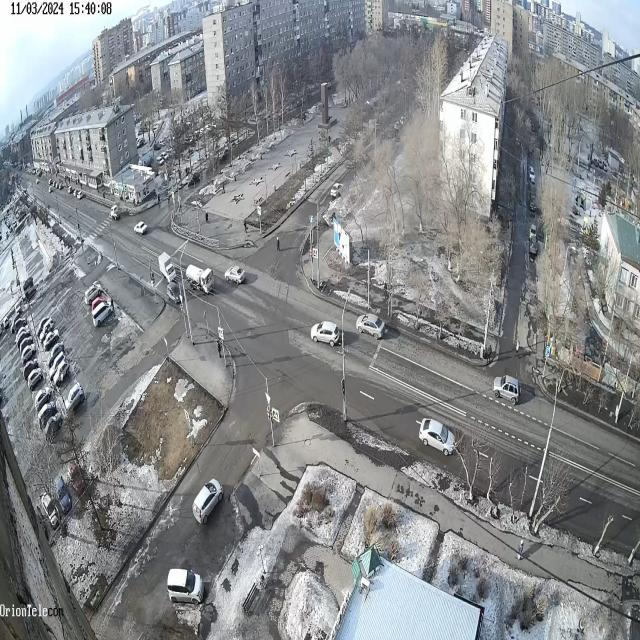car: (192, 471, 224, 528), (418, 416, 458, 458), (167, 566, 204, 608), (185, 262, 215, 298), (492, 371, 521, 407), (354, 311, 386, 342), (39, 488, 61, 530), (63, 380, 85, 421), (310, 321, 340, 349), (52, 474, 72, 514), (44, 407, 63, 441), (91, 300, 113, 329), (158, 250, 176, 283), (38, 398, 56, 431), (47, 338, 65, 371), (50, 349, 66, 382), (85, 278, 102, 308), (54, 358, 71, 388), (27, 364, 43, 394), (166, 282, 184, 308), (225, 266, 246, 288), (44, 324, 60, 352), (35, 383, 49, 413), (38, 316, 53, 344), (21, 341, 37, 367), (91, 294, 107, 318), (330, 179, 345, 201), (132, 218, 148, 236)
